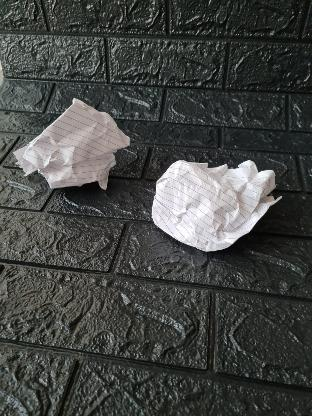Paper: (150, 160, 284, 252), (14, 100, 132, 190)
